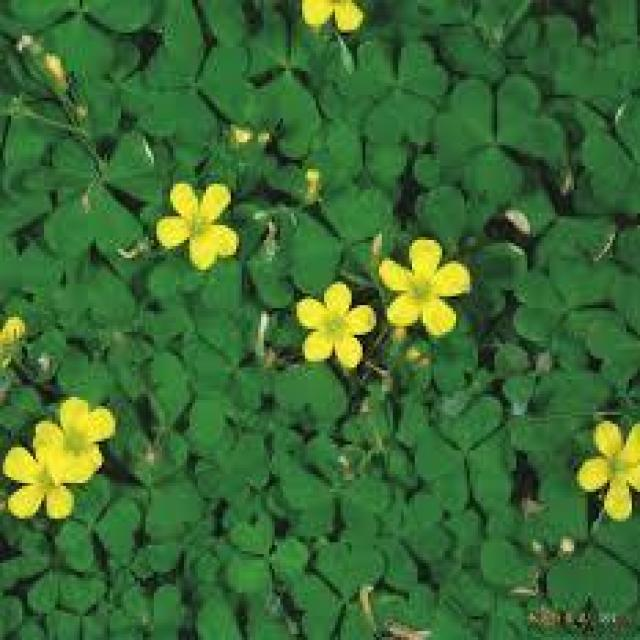organic waste: (378, 236, 479, 348), (283, 280, 379, 375), (30, 386, 113, 484), (158, 180, 240, 276), (12, 436, 92, 530), (567, 410, 639, 514), (305, 2, 373, 37)
